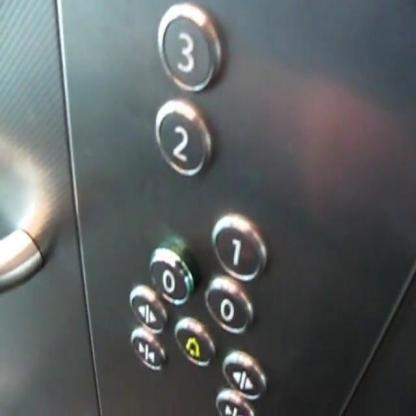0: (147, 242, 196, 309), (203, 274, 257, 334)
1: (208, 212, 268, 284)
2: (152, 98, 214, 179)
3: (154, 0, 223, 94)
alarm: (172, 315, 219, 371)
close: (128, 324, 168, 376)
open: (220, 347, 267, 402), (127, 280, 169, 334)
